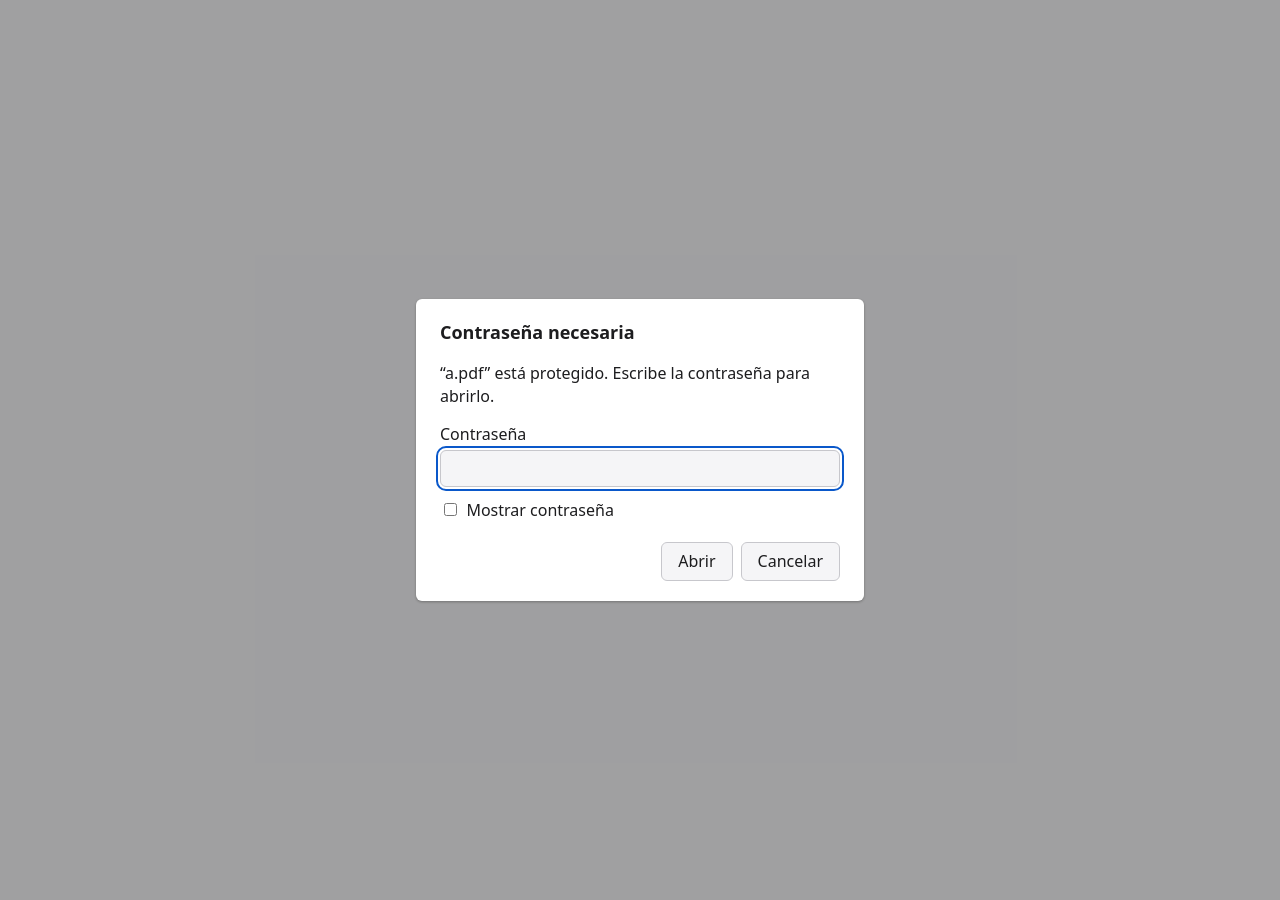
PasswordDialog › con contraseña incorrecta muestra el aviso con role alert y deja el campo vacío y enfocado
Type "mal" into the password field labelled "Contraseña" at coordinates (640, 468), box [440,450,840,487]
Then press Enter
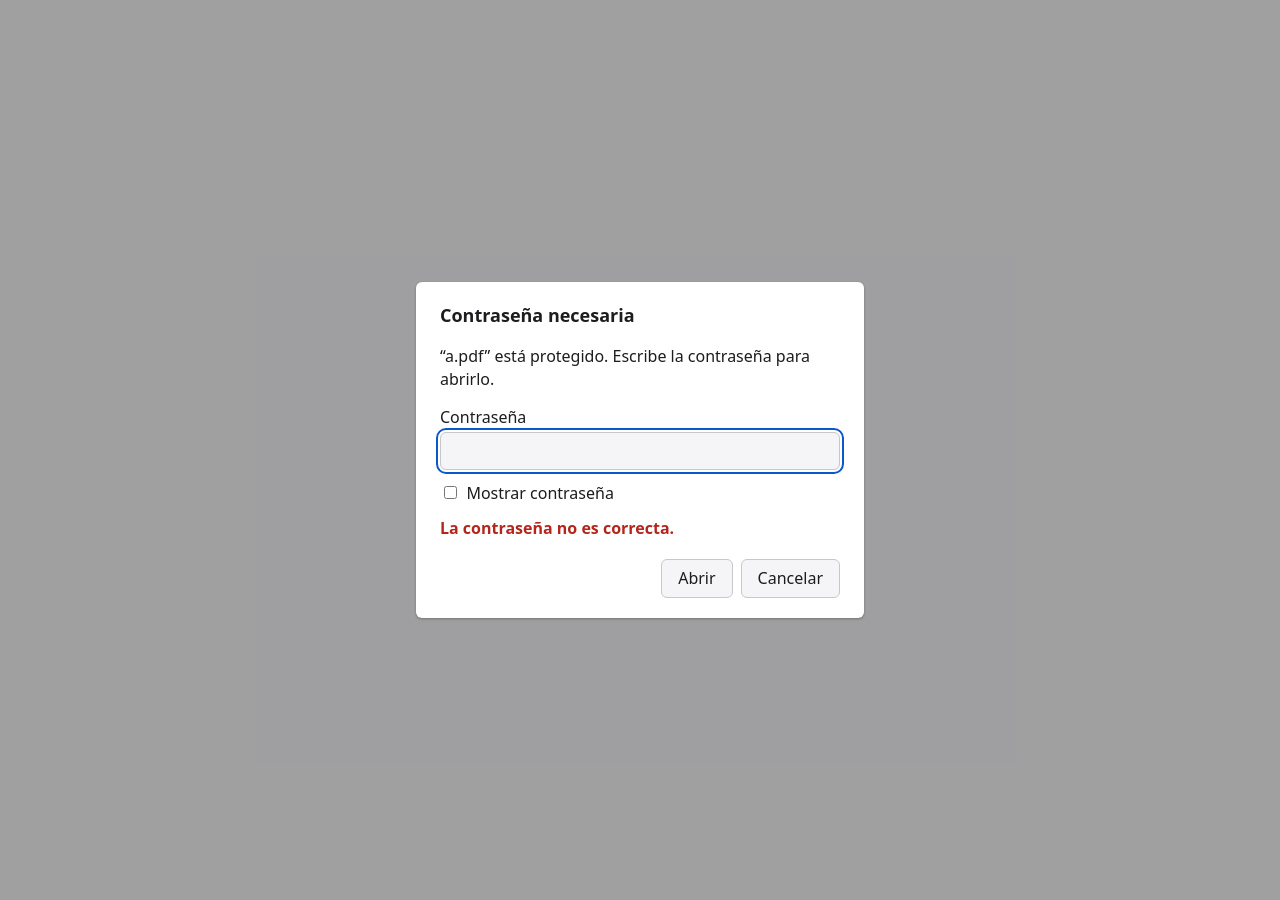
Expected: the password field labelled "Contraseña" is empty, [440,432,840,470]
Expected: the message reads "La contraseña no es correcta.", [440,517,674,539]
